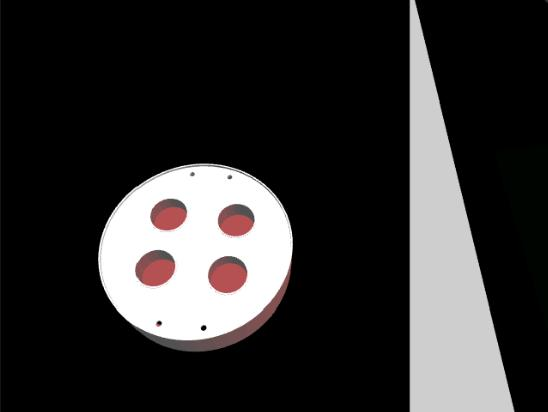hole: (205, 254, 253, 297), (144, 193, 192, 235), (133, 249, 179, 288), (216, 198, 257, 241)
